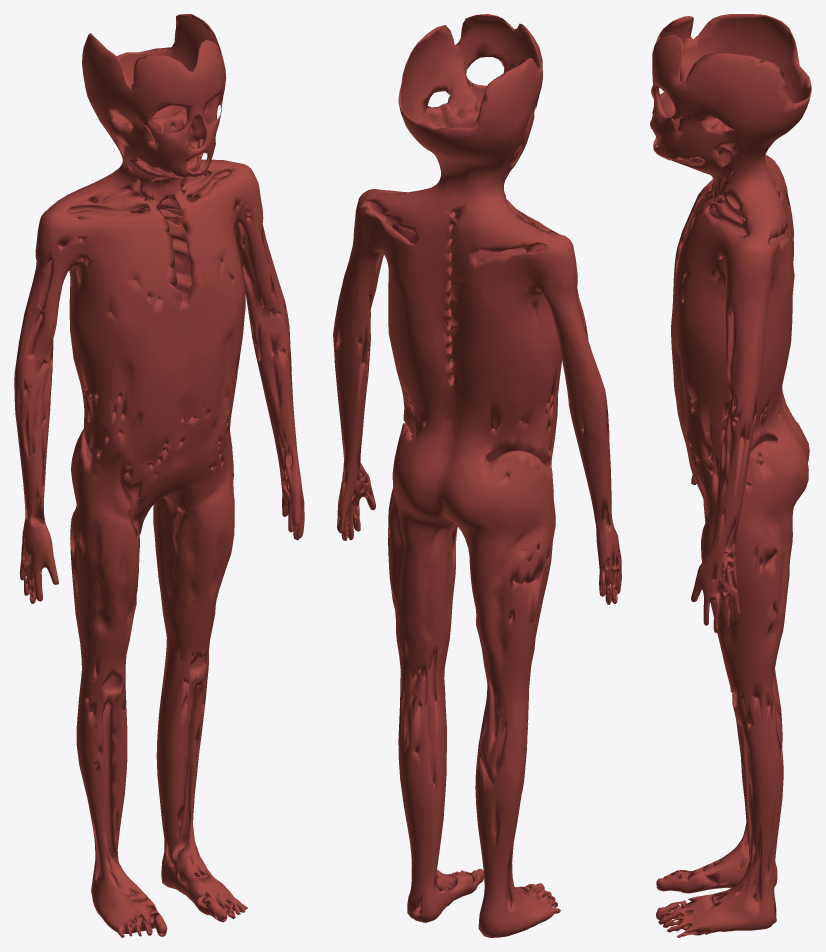
The model's file is pediatric_child_5y_male.muscular.LOD1.glb.
3 views of the same model, side by side, from view 1: azimuth 30°, elevation 25°; view 2: azimuth 150°, elevation 25°; view 3: azimuth 270°, elevation 25° (orthographic).
Visible parts, largest first — view 1: PEDIATRIC.CHILD_5Y.MALE.MUSCULAR.MUSCLE; view 2: PEDIATRIC.CHILD_5Y.MALE.MUSCULAR.MUSCLE; view 3: PEDIATRIC.CHILD_5Y.MALE.MUSCULAR.MUSCLE.
Boxes of the visible parts, x1,y1,x2,y2 form: PEDIATRIC.CHILD_5Y.MALE.MUSCULAR.MUSCLE: [14, 14, 304, 937]; PEDIATRIC.CHILD_5Y.MALE.MUSCULAR.MUSCLE: [333, 14, 621, 937]; PEDIATRIC.CHILD_5Y.MALE.MUSCULAR.MUSCLE: [650, 14, 811, 937].
Bounding box in the file's own units: 0.3468 × 1.06 × 0.1767.
